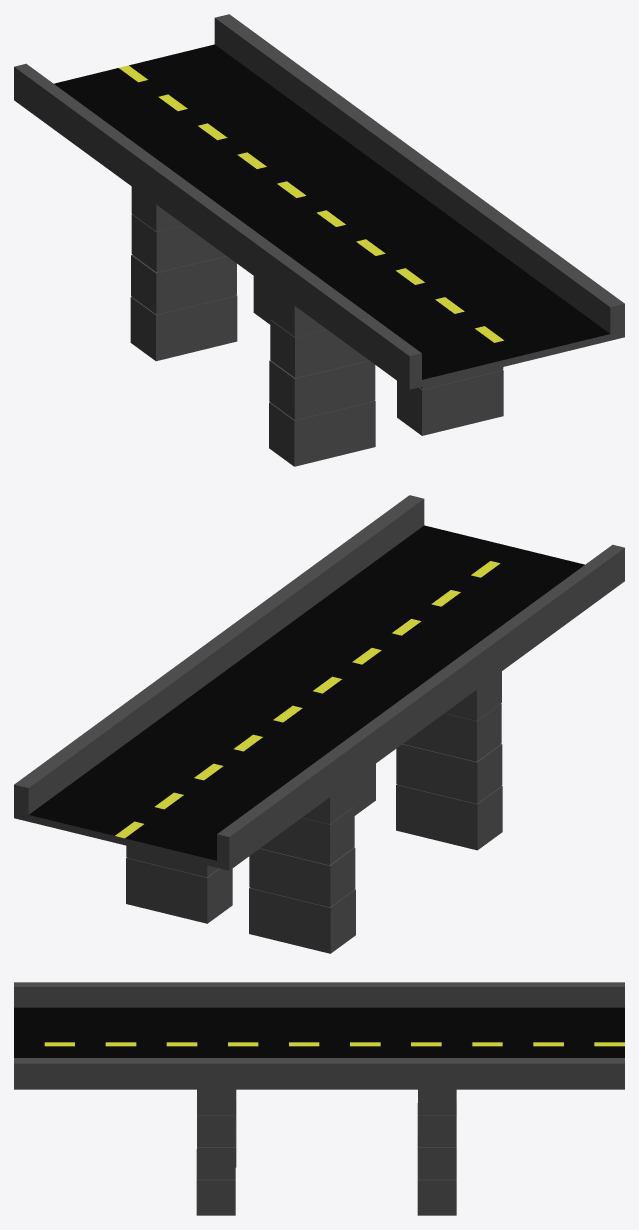
The model's file is concrete-bridge.fbx.
3 views of the same model, one above another, from view 1: azimuth 30°, elevation 25°; view 2: azimuth 150°, elevation 25°; view 3: azimuth 270°, elevation 25° (orthographic). The views are drawn at different scales.
Visible parts, largest first — view 1: road, pilar4, pilar3, pilar2, pilar1; view 2: road, pilar4, pilar3, pilar1, pilar2; view 3: road, pilar1, pilar2.
Boxes of the visible parts, x1,y1,x2,y2 form: road: (14,14,624,389); pilar4: (269,288,375,466); pilar3: (130,187,237,361); pilar2: (397,367,503,435); pilar1: (253,276,270,324); road: (14,495,624,870); pilar4: (396,671,502,850); pilar3: (249,779,355,953); pilar1: (126,845,232,923); pilar2: (354,764,375,815); road: (14,982,624,1089); pilar1: (417,1089,456,1215); pilar2: (196,1089,235,1215).
Size of the model in its own units: 984 by 866 by 3130.
